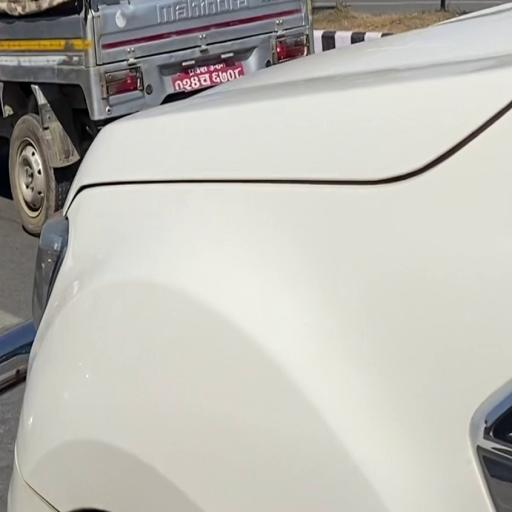license_plate: (170, 56, 248, 93)
